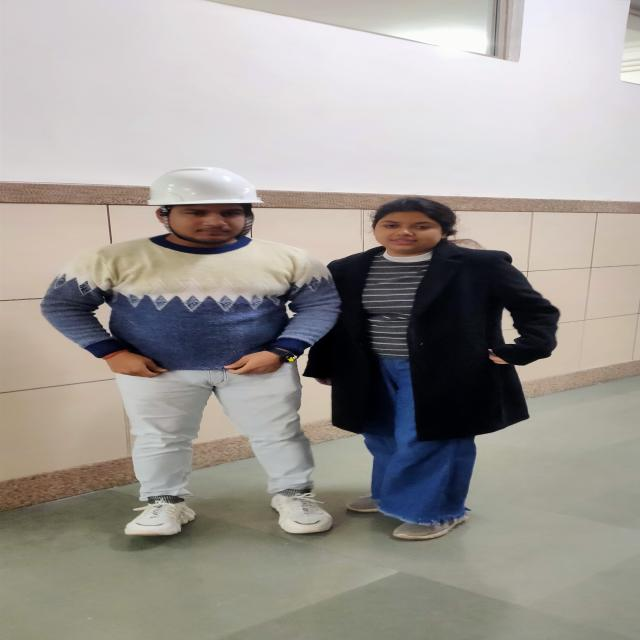no jacket: (42, 166, 340, 537)
unsafe: (329, 195, 558, 541)
